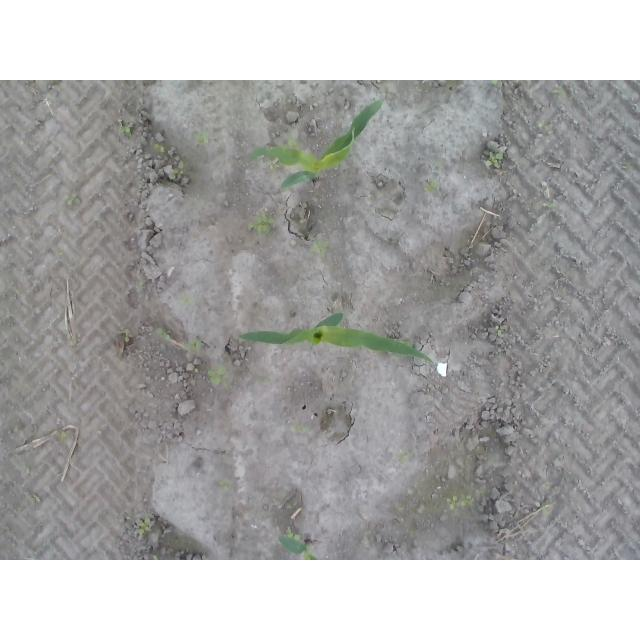Maize: (246, 98, 384, 191), (239, 312, 438, 372), (277, 534, 320, 560)
Weeds: (247, 213, 273, 235), (447, 494, 472, 510), (135, 516, 155, 535), (207, 367, 225, 386), (485, 152, 503, 169), (313, 240, 329, 256), (423, 178, 439, 193), (284, 135, 301, 149), (63, 192, 81, 204), (193, 132, 209, 145), (174, 161, 187, 175), (158, 328, 171, 341), (189, 338, 202, 351), (287, 528, 301, 540), (154, 142, 166, 155), (217, 479, 231, 489), (119, 126, 132, 135), (269, 159, 280, 169), (496, 325, 503, 337)
